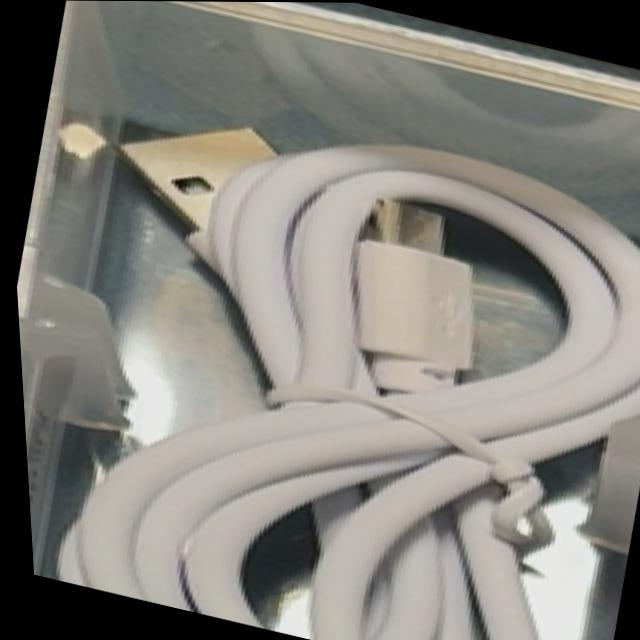USB: (8, 68, 640, 640)
